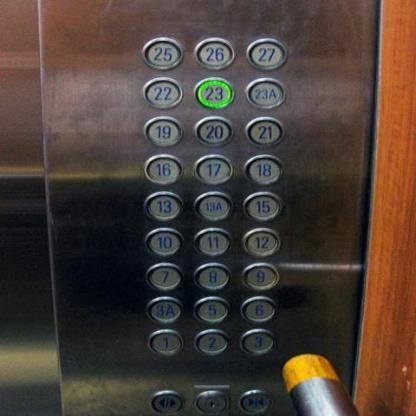1: (146, 328, 184, 355)
10: (145, 227, 182, 256)
11: (193, 226, 231, 256)
12: (241, 227, 279, 256)
13: (145, 190, 182, 219)
13A: (193, 191, 231, 220)
15: (242, 191, 282, 221)
16: (141, 152, 183, 185)
17: (190, 154, 233, 184)
18: (244, 152, 284, 186)
19: (143, 113, 184, 148)
2: (192, 328, 230, 355)
20: (193, 113, 234, 147)
21: (244, 114, 284, 148)
22: (142, 76, 183, 110)
23: (193, 76, 234, 110)
23A: (245, 76, 285, 110)
25: (141, 35, 184, 72)
26: (192, 36, 235, 70)
27: (245, 36, 288, 70)
3: (238, 328, 275, 354)
3A: (146, 295, 184, 323)
5: (192, 295, 230, 323)
6: (240, 295, 278, 322)
7: (145, 261, 183, 291)
8: (194, 263, 232, 289)
9: (241, 262, 279, 289)
close: (236, 389, 272, 414)
keyhole: (192, 390, 229, 415)
open: (149, 389, 186, 415)
